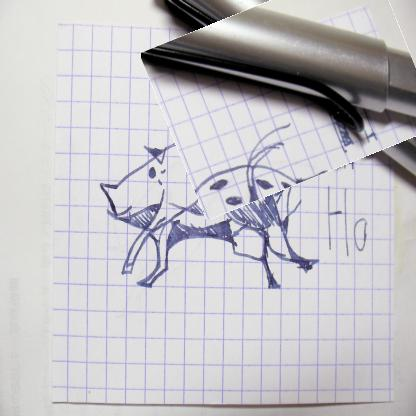Pen: (152, 0, 415, 202)
